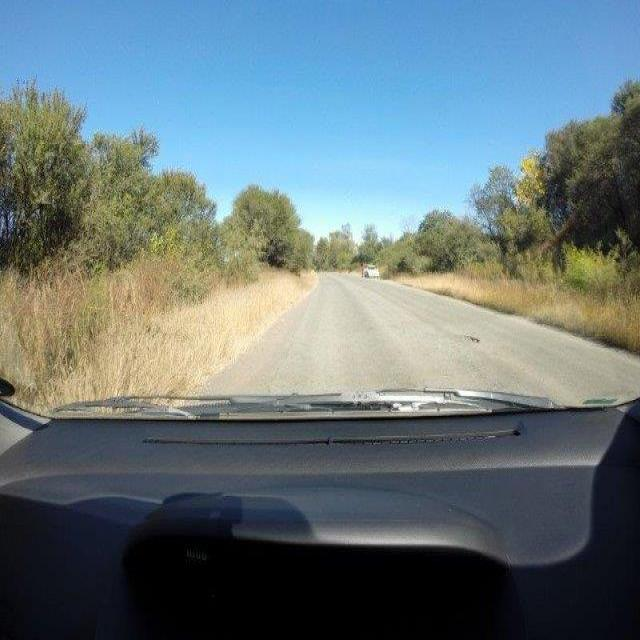lubang: (456, 329, 484, 346)
